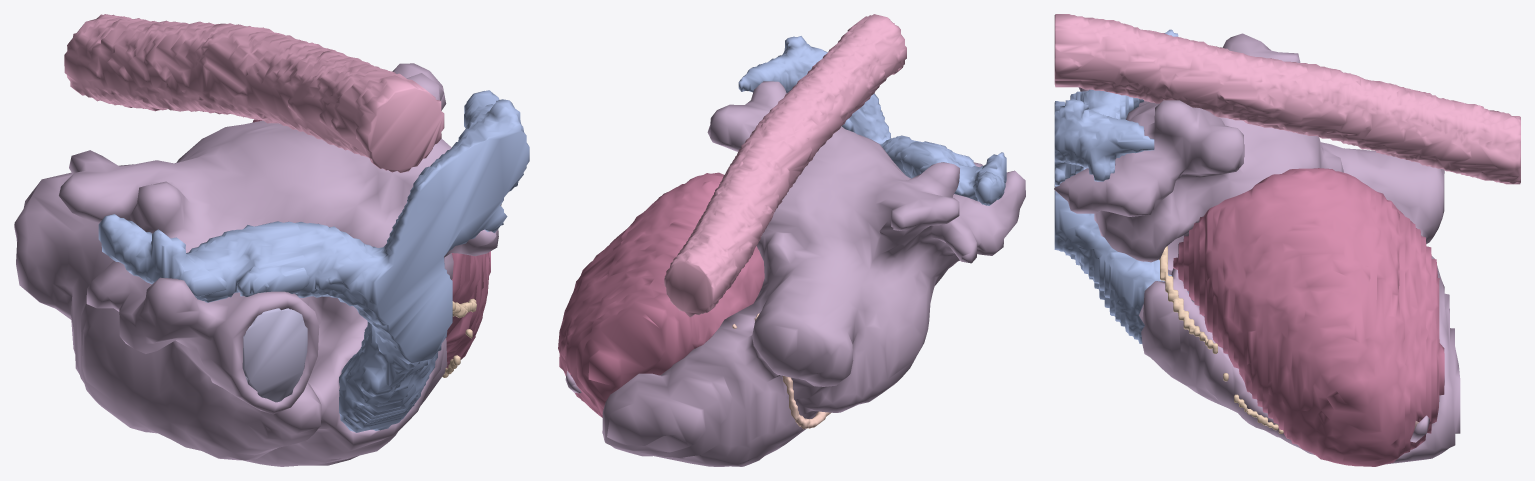
3 views of the same model, side by side, from view 1: azimuth 30°, elevation 25°; view 2: azimuth 150°, elevation 25°; view 3: azimuth 270°, elevation 25° (orthographic). The views are drawn at different scales.
Visible parts, largest first — view 1: heart-wall, pulmonary-artery, aorta, right-atrium, myocardium, left-coronary-artery; view 2: heart-wall, myocardium, aorta, pulmonary-artery, right-coronary-artery; view 3: myocardium, heart-wall, aorta, pulmonary-artery, left-coronary-artery.
Boxes of the visible parts, x1,y1,x2,y2 form: heart-wall: (14,63,501,466); pulmonary-artery: (98,90,529,432); aorta: (64,14,444,172); right-atrium: (242,308,307,402); myocardium: (252,119,490,368); left-coronary-artery: (442,298,476,377); heart-wall: (565,81,1025,466); myocardium: (558,172,764,417); aorta: (664,14,906,317); pulmonary-artery: (738,36,1006,205); right-coronary-artery: (732,313,831,429); myocardium: (1173,168,1444,466); heart-wall: (1054,33,1460,464); aorta: (1054,14,1520,184); pulmonary-artery: (1054,29,1178,343); left-coronary-artery: (1159,246,1283,433).
Size of the model in its own units: 137 by 132 by 142.
